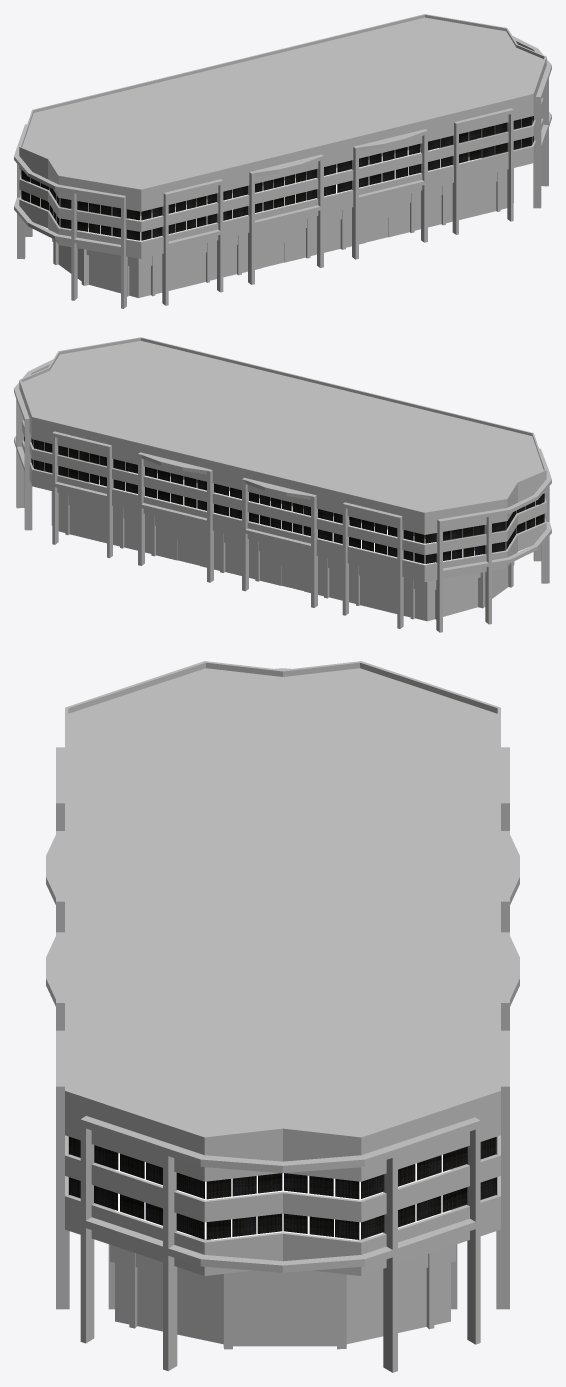
The picture shows the model from 3 angles, top to bottom: view 1: azimuth 30°, elevation 25°; view 2: azimuth 150°, elevation 25°; view 3: azimuth 270°, elevation 25°; orthographic projection. The views are drawn at different scales.
Parts seen in each view (by area): view 1: BB-075; view 2: BB-075; view 3: BB-075.
Part boxes in pixels (<box>): BB-075: <box>14,14,551,308</box>; BB-075: <box>14,337,551,632</box>; BB-075: <box>46,661,519,1372</box>.
Size of what is drawn, in the model's own units: 78.85 by 17.75 by 31.72.
